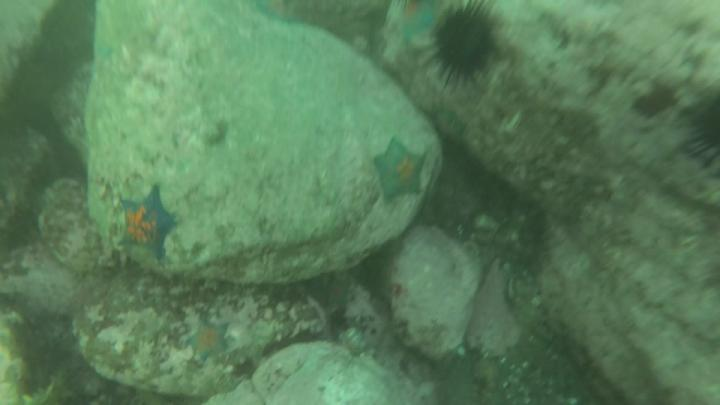echinus: (425, 1, 500, 92), (678, 82, 720, 177)
starfish: (116, 185, 179, 265), (371, 135, 428, 209), (182, 319, 234, 364), (395, 1, 438, 48)
